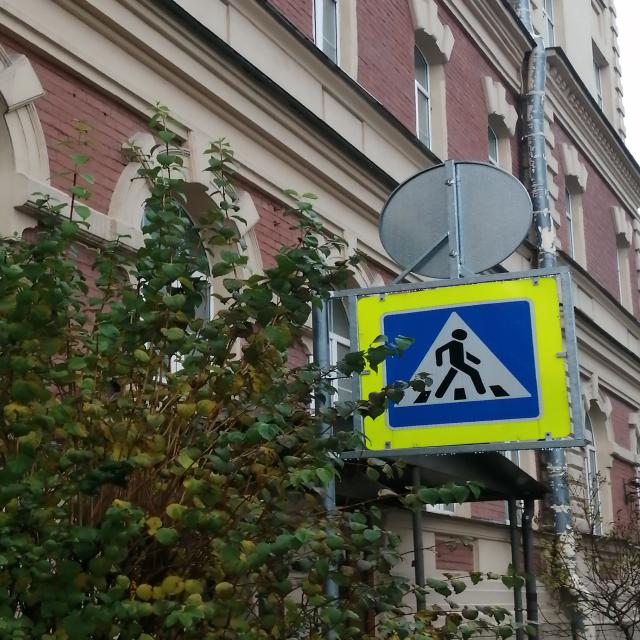road sign: (357, 274, 573, 452)
